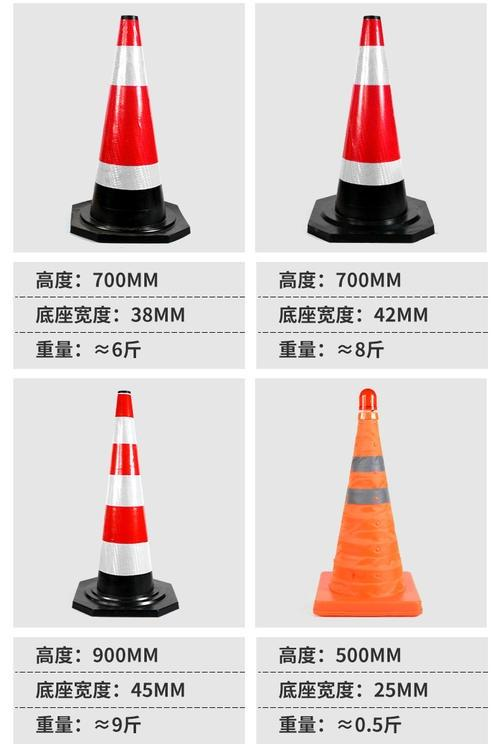cone_barrel: (80, 17, 178, 235), (320, 395, 417, 612), (324, 17, 419, 233), (83, 393, 165, 611)
